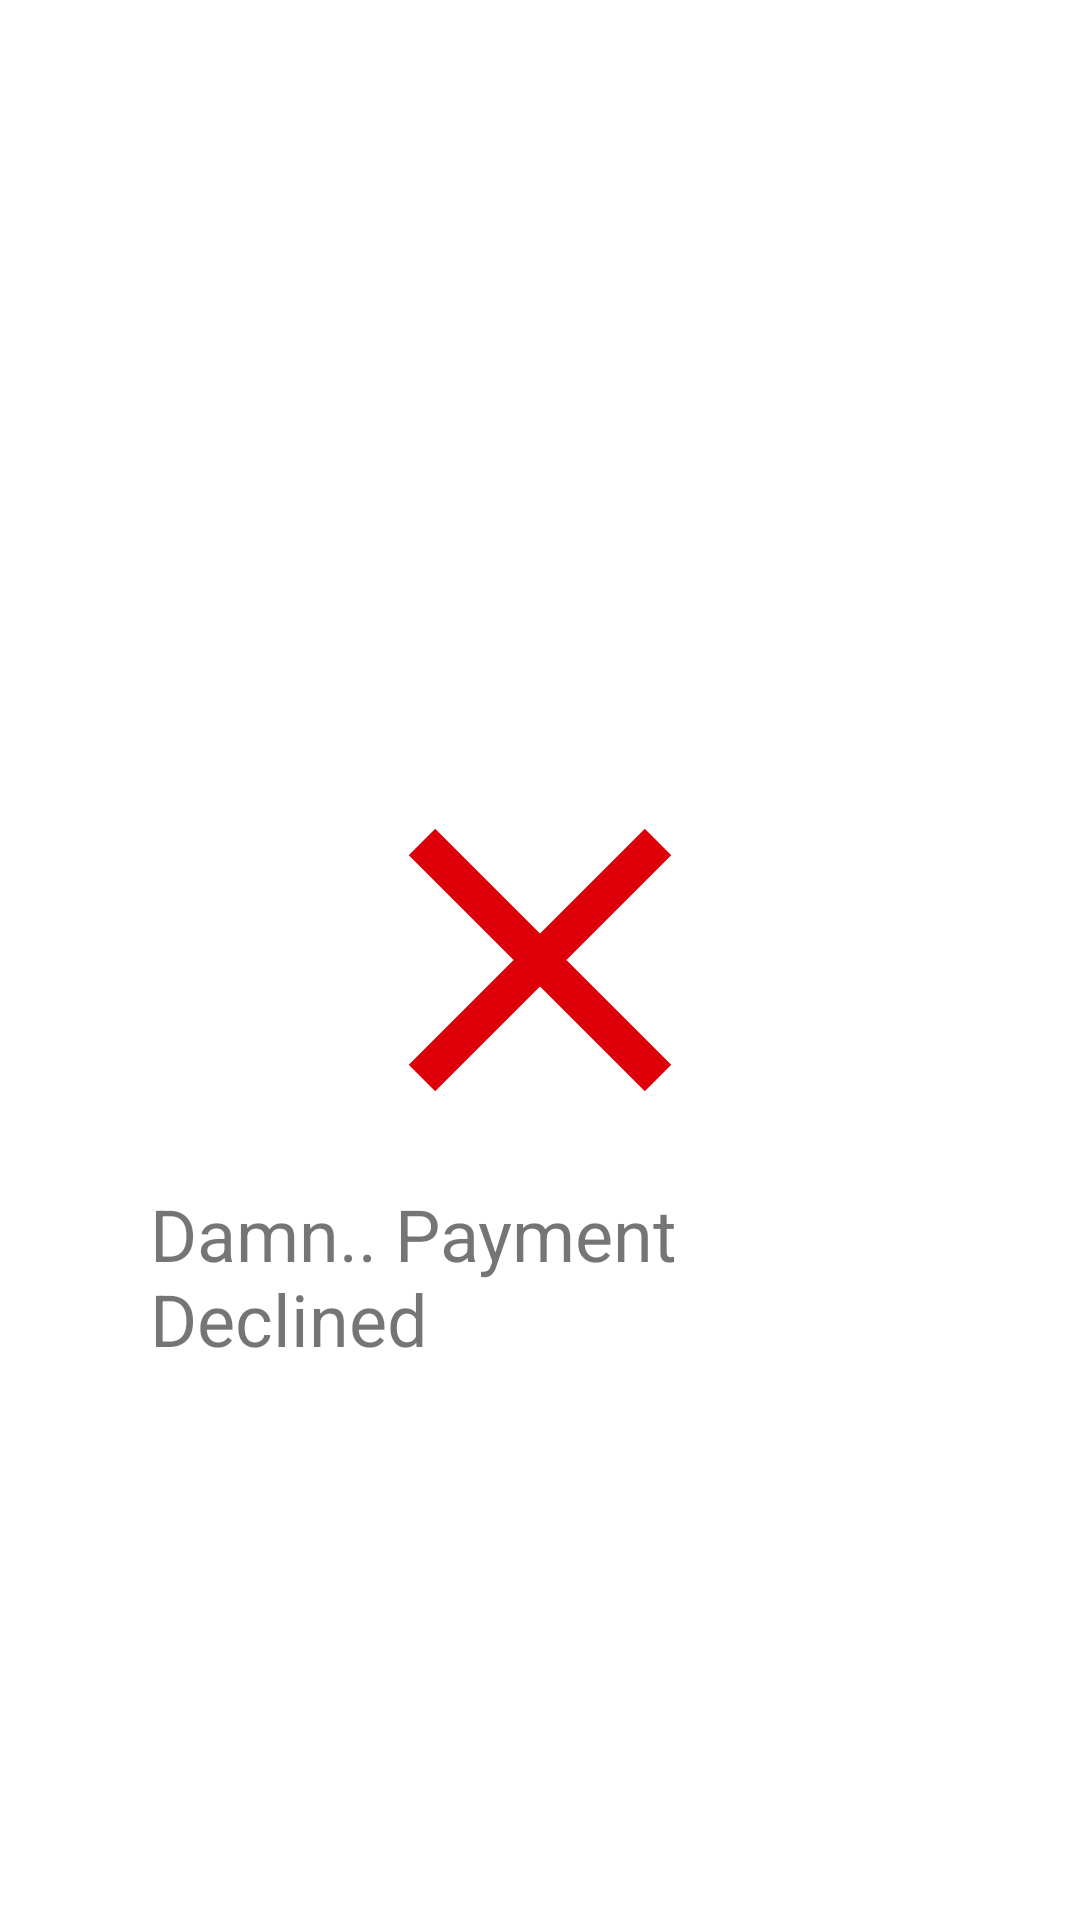

Icon click points for this 1080px×1920px phone screenshot, format [x,y]:
clear: [540,960]
